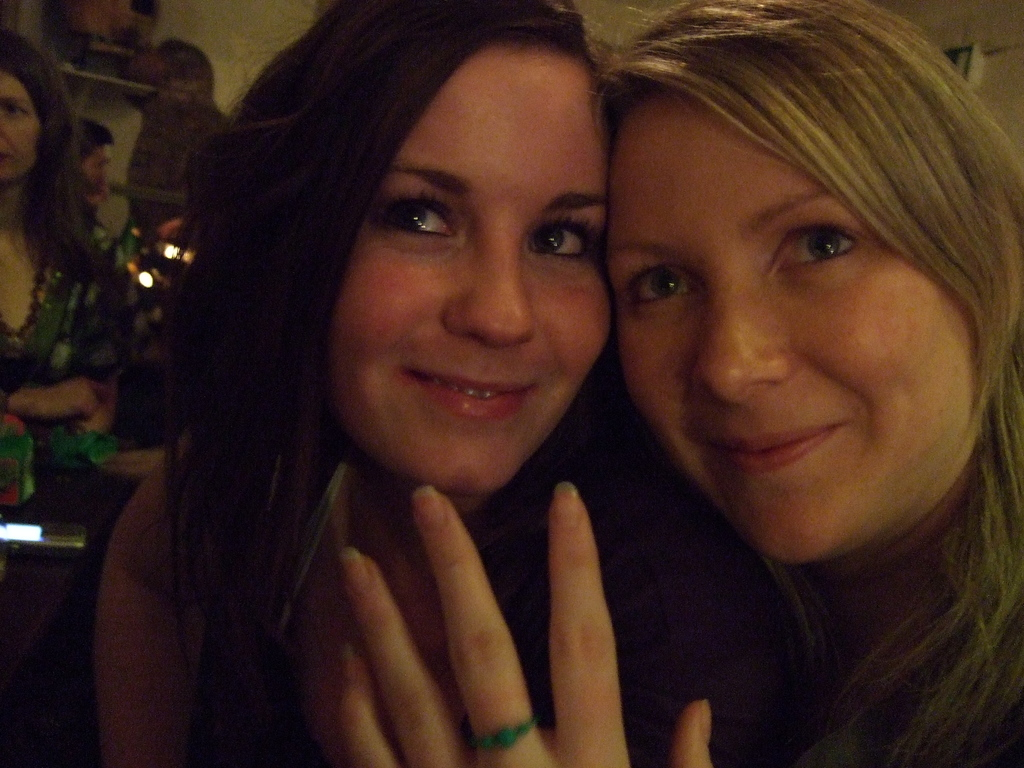Human_hand: (335, 485, 711, 767), (28, 374, 102, 415), (93, 445, 165, 479)
